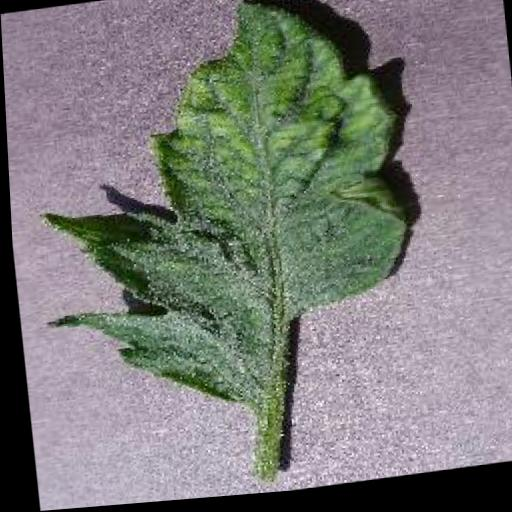Mosaic Virus: (11, 0, 423, 437)
